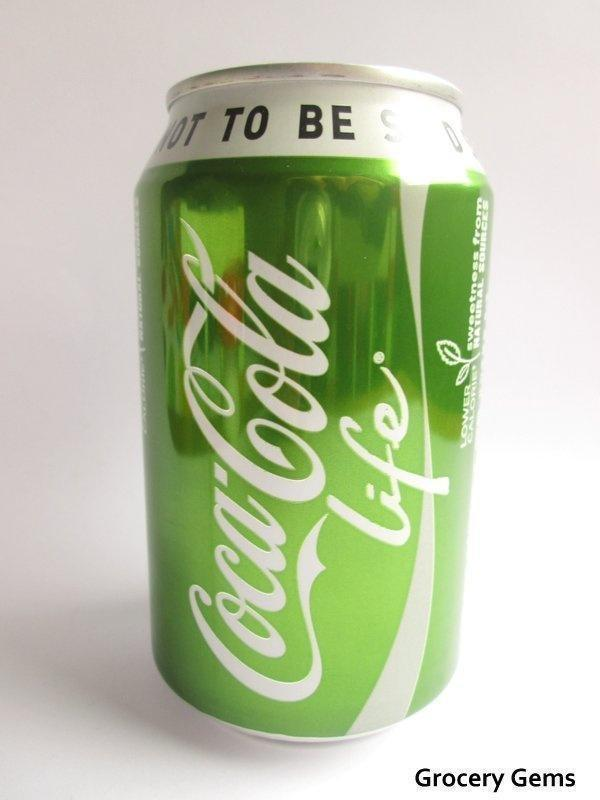tin can: (133, 61, 497, 748)
